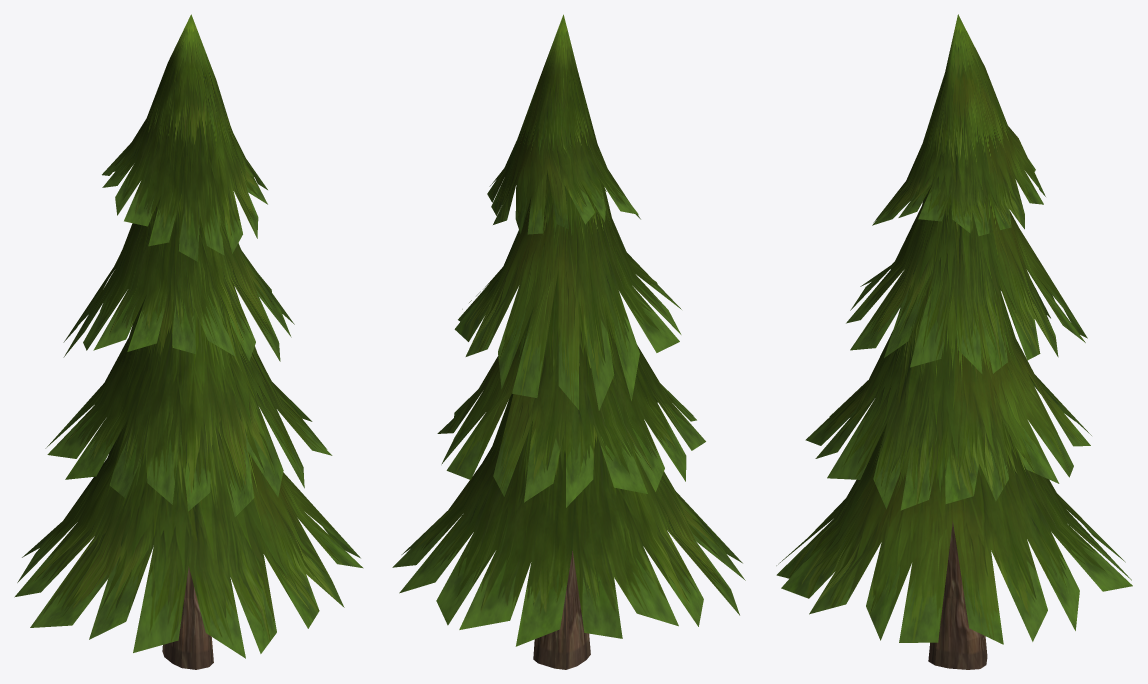
The model's file is tree1.gltf.
The picture shows the model from 3 angles, left to right: view 1: azimuth 30°, elevation 25°; view 2: azimuth 150°, elevation 25°; view 3: azimuth 270°, elevation 25°; orthographic projection.
Parts seen in each view (by area): view 1: Conifer_Full_Lo_1; view 2: Conifer_Full_Lo_1; view 3: Conifer_Full_Lo_1.
Part boxes in pixels (bbox=[...]): Conifer_Full_Lo_1: bbox=[14, 14, 363, 669]; Conifer_Full_Lo_1: bbox=[392, 14, 745, 669]; Conifer_Full_Lo_1: bbox=[776, 14, 1132, 669].
Size of the model in its own units: 1.83 by 3.63 by 1.83.
1 material, 1 textured.
